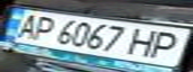0: (69, 19, 93, 49)
6: (48, 17, 78, 46), (87, 20, 109, 52)
7: (103, 22, 130, 54)
A: (6, 11, 45, 40)
H: (124, 26, 166, 59)
P: (145, 29, 190, 61), (24, 13, 60, 42)
